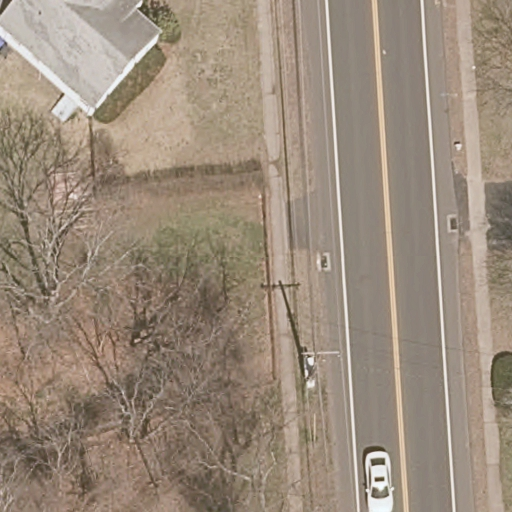DT: (300, 345, 339, 390)
